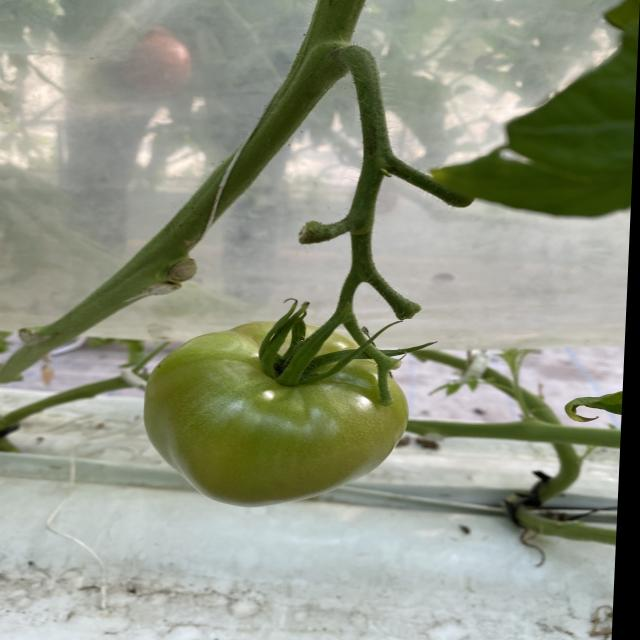yesil: (118, 284, 439, 495)
